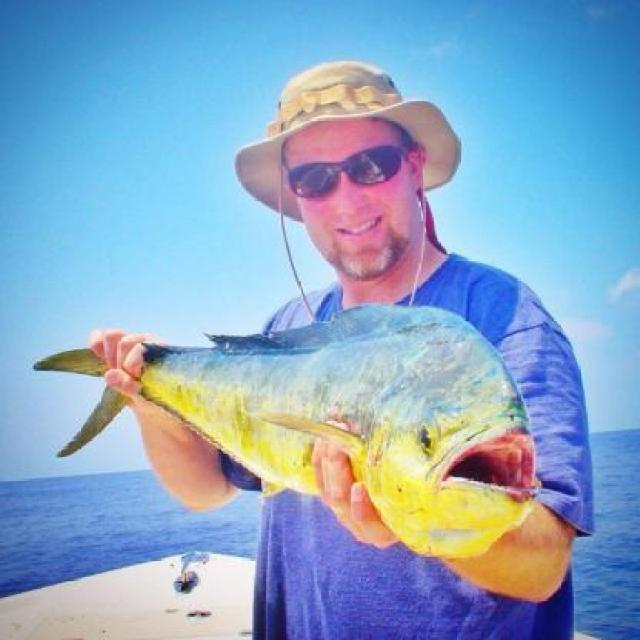face_nomask: (284, 150, 416, 264)
glasses: (276, 140, 430, 194)
hand_noglove: (310, 424, 404, 556), (74, 312, 171, 408)
person: (74, 46, 600, 640)
